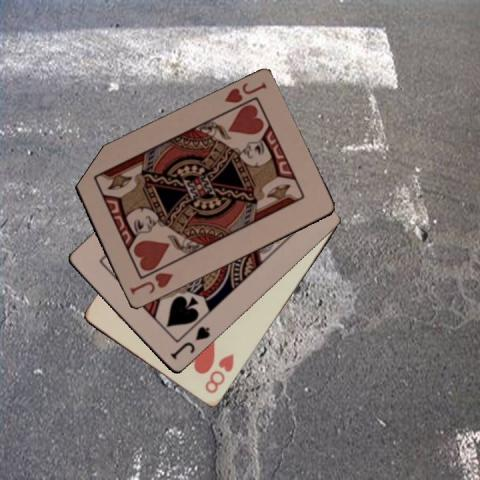8h: (202, 351, 235, 396)
Jh: (126, 269, 174, 297), (221, 80, 268, 106)
Js: (167, 323, 211, 362)
